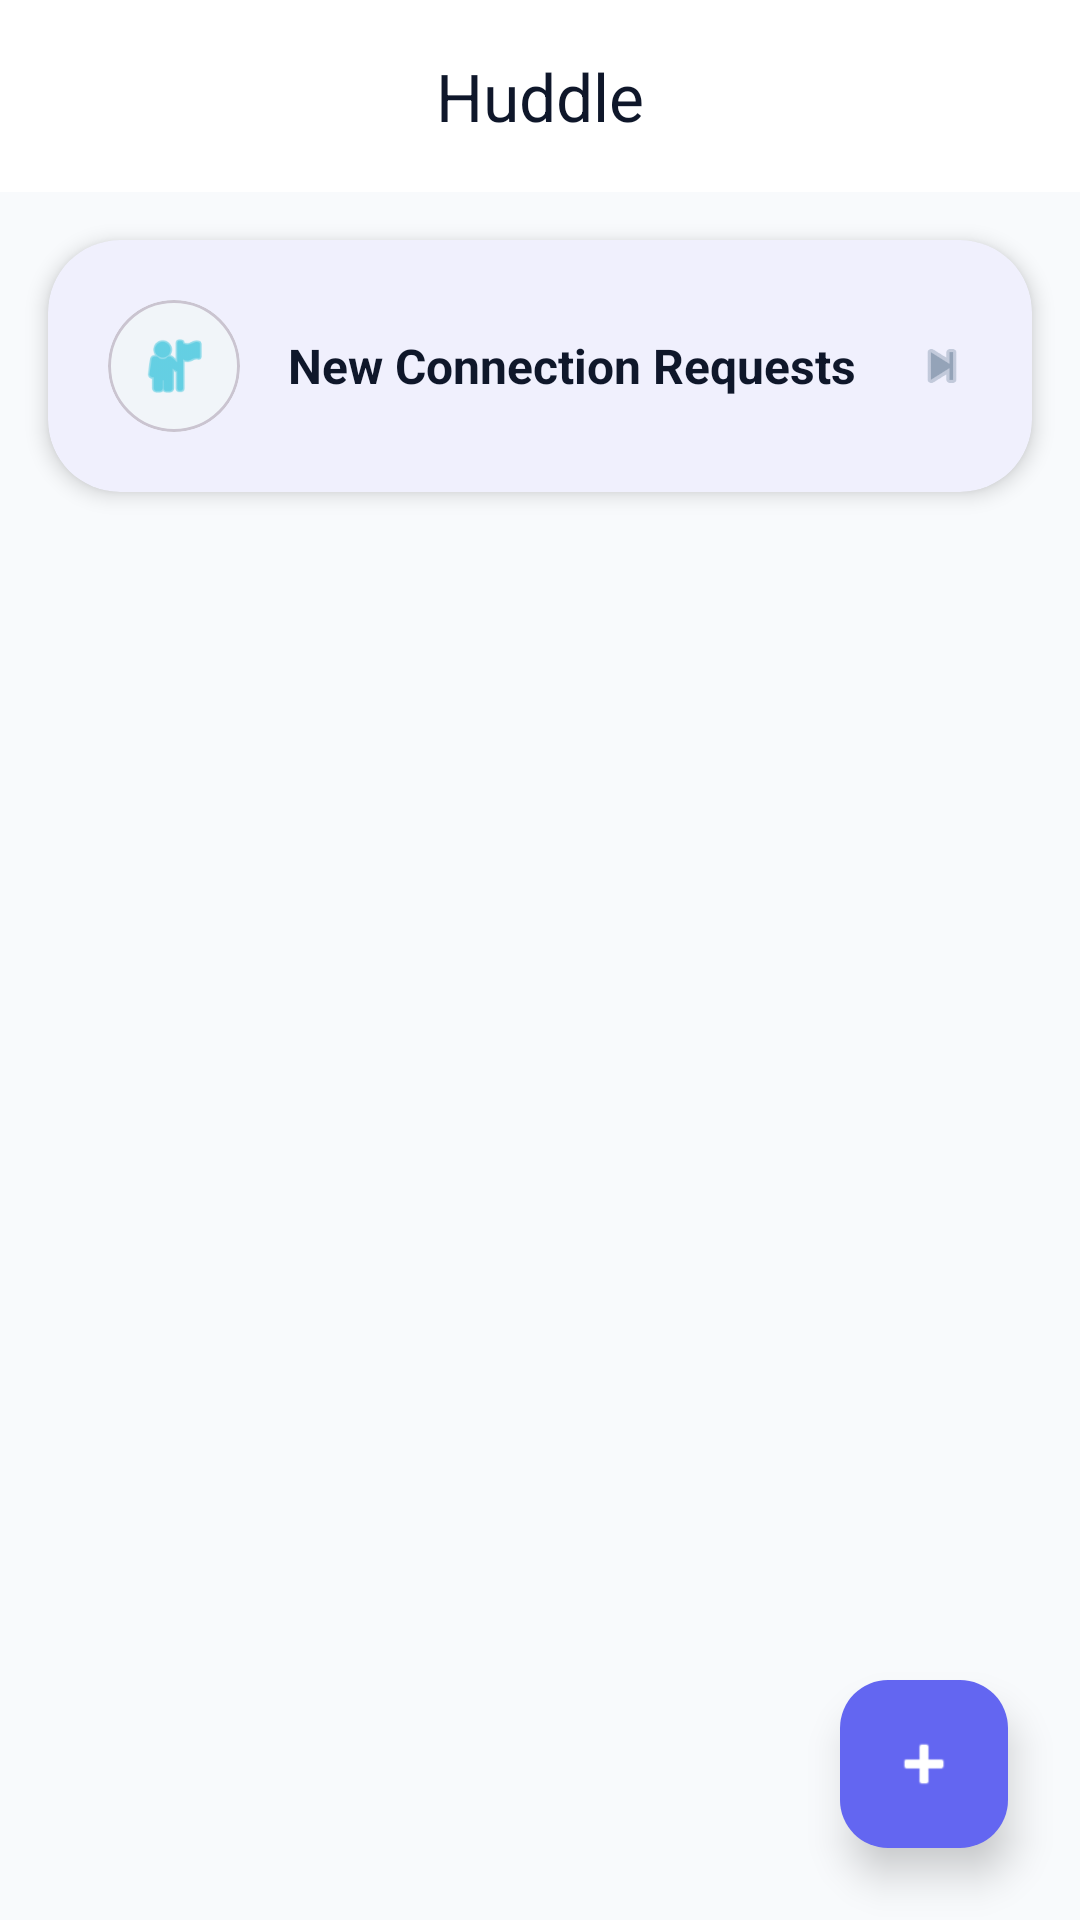

Where to tap for icons on this 1080×1920 app screen, as (x,y):
add: (924,1764)
myplaces: (175,366)
next: (942,366)
